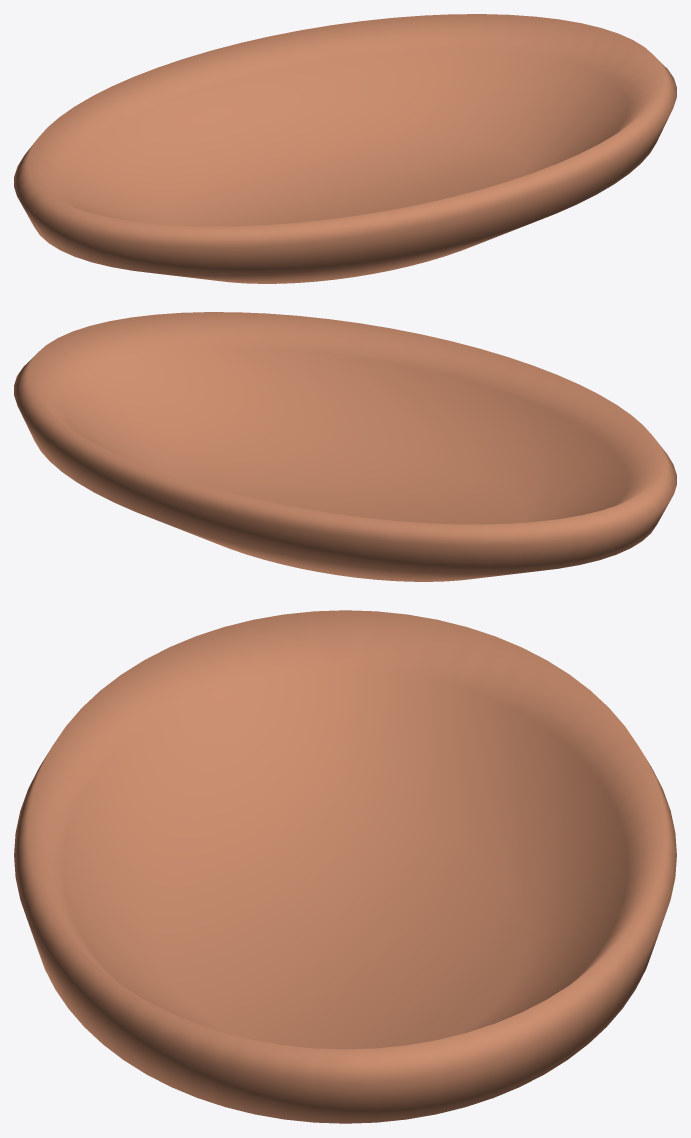
The model's file is Key_Tray.glb.
3 renders of one model, top to bottom at view 1: azimuth 30°, elevation 25°; view 2: azimuth 150°, elevation 25°; view 3: azimuth 270°, elevation 25°, orthographic. The views are drawn at different scales.
Parts seen in each view (by area): view 1: Key_Tray_Mesh; view 2: Key_Tray_Mesh; view 3: Key_Tray_Mesh.
Boxes of the visible parts, x1,y1,x2,y2 form: Key_Tray_Mesh: (14,14,676,283); Key_Tray_Mesh: (14,312,676,581); Key_Tray_Mesh: (14,610,676,1123).
Size of the model in its own units: 0.2714 by 0.041 by 0.1656.
